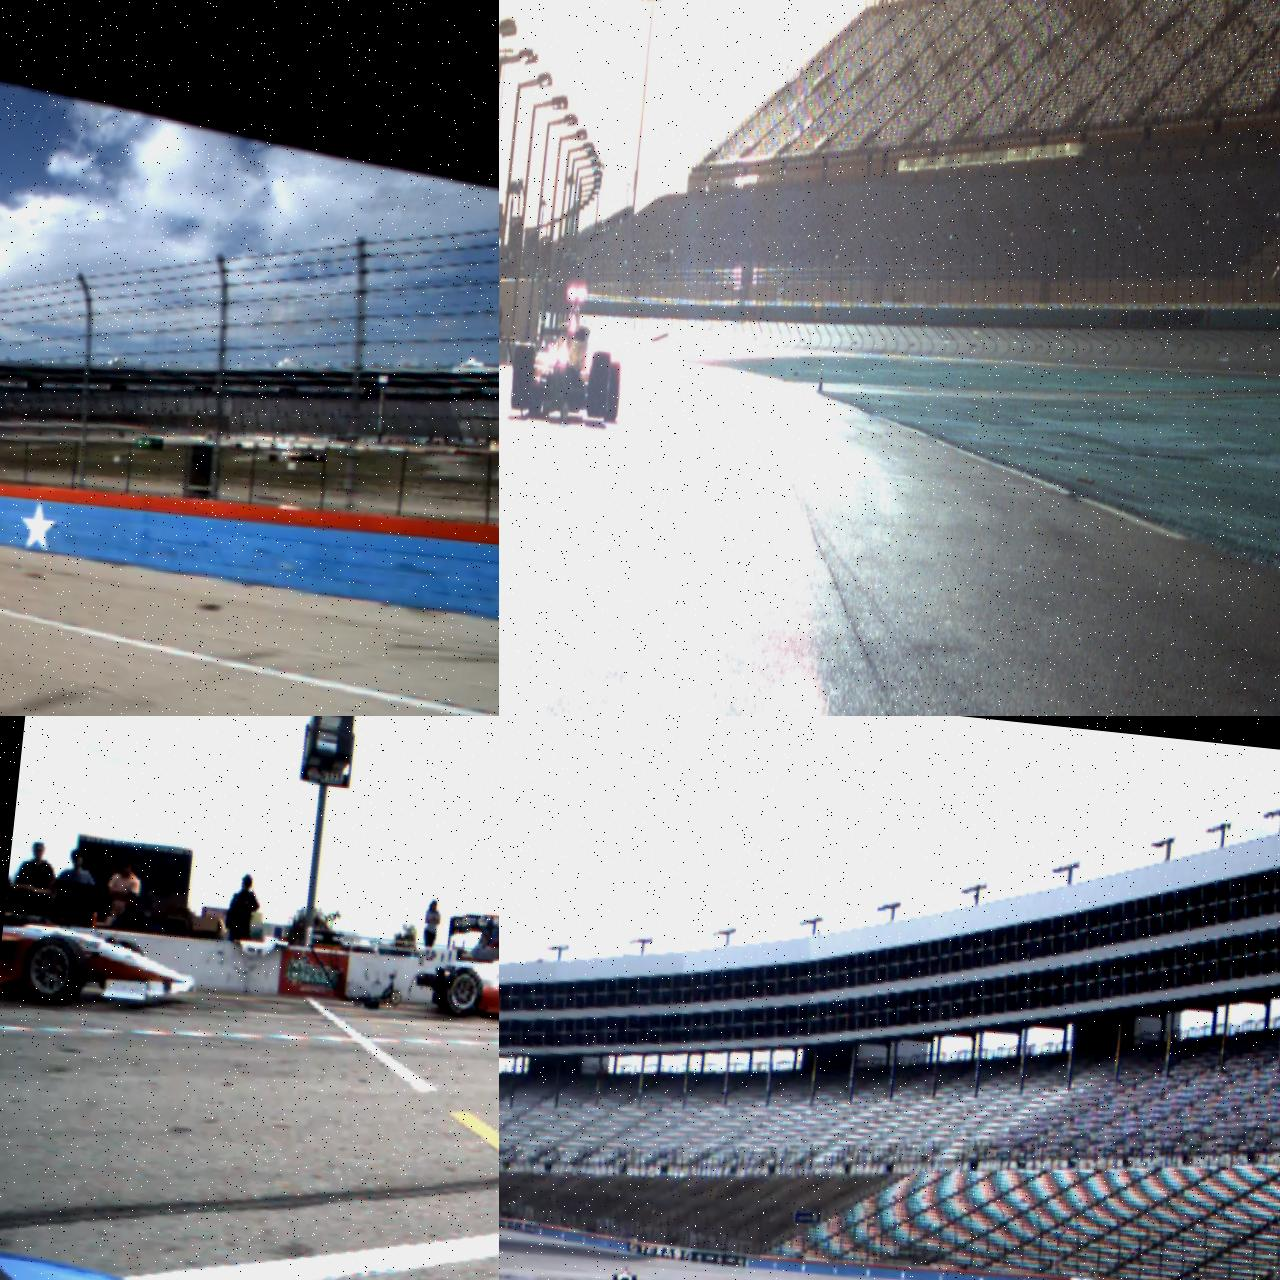AV: (0, 907, 202, 1017), (509, 280, 632, 425), (429, 918, 499, 1040), (612, 1265, 638, 1280)
Wheel: (22, 932, 89, 1008), (443, 965, 485, 1020), (510, 342, 537, 411), (586, 350, 613, 416), (602, 361, 624, 423), (613, 1273, 618, 1280), (632, 1275, 636, 1280)
